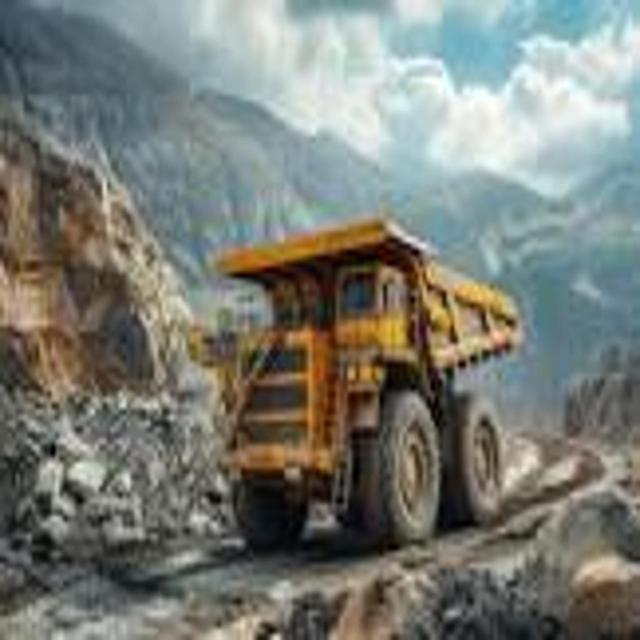dump_truck: (212, 176, 502, 546)
